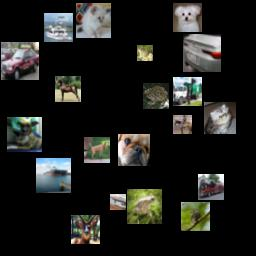airplane: (110, 194, 126, 210)
automobile: (183, 34, 221, 72), (1, 42, 39, 80)
bird: (181, 202, 210, 231)
cat: (76, 3, 111, 38), (204, 102, 236, 134)
deer: (71, 215, 100, 244)
dog: (7, 117, 42, 152), (118, 134, 150, 166), (173, 3, 202, 32), (84, 137, 110, 163)
frog: (127, 189, 162, 224), (143, 83, 169, 109), (137, 45, 153, 61)
ship: (36, 158, 71, 193), (44, 13, 73, 42)
truck: (173, 77, 202, 106), (198, 174, 224, 200)
